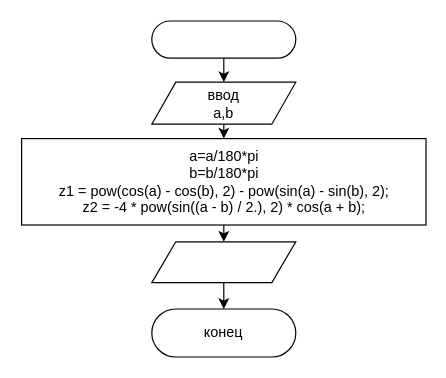
Image size: 446x378. Some labels were removed from this diagram. The shapes that lost their labels are listed below. From the top down, each one's centre as x and y in pixels, then its label:
At [223,39]: "начало".
At [223,262]: "вывод z1,z2".
